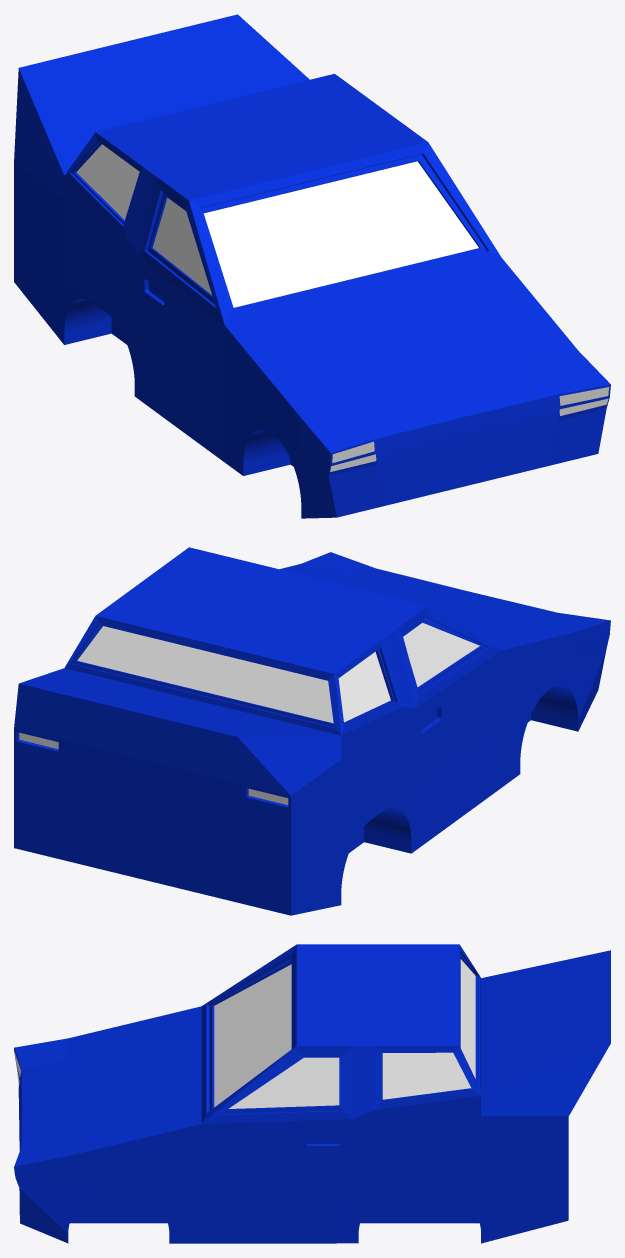
Rendered from Chassi.gltf.
3 renders of one model, top to bottom at view 1: azimuth 30°, elevation 25°; view 2: azimuth 150°, elevation 25°; view 3: azimuth 270°, elevation 25°, orthographic. The views are drawn at different scales.
Visible parts, largest first — view 1: Cube; view 2: Cube; view 3: Cube.
Boxes of the visible parts, x1,y1,x2,y2 form: Cube: (14,14,610,518); Cube: (14,547,610,915); Cube: (14,944,610,1243).
Bounding box in the file's own units: 3.07 × 2.28 × 6.51.
